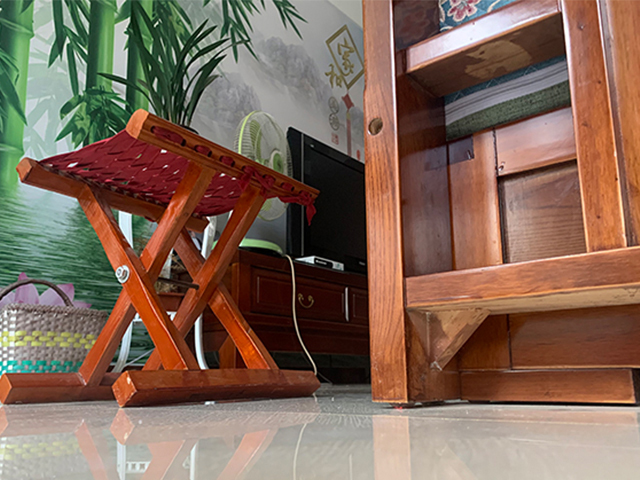cabinet: (187, 246, 369, 369)
stool: (1, 107, 322, 408)
wire: (287, 255, 322, 377)
